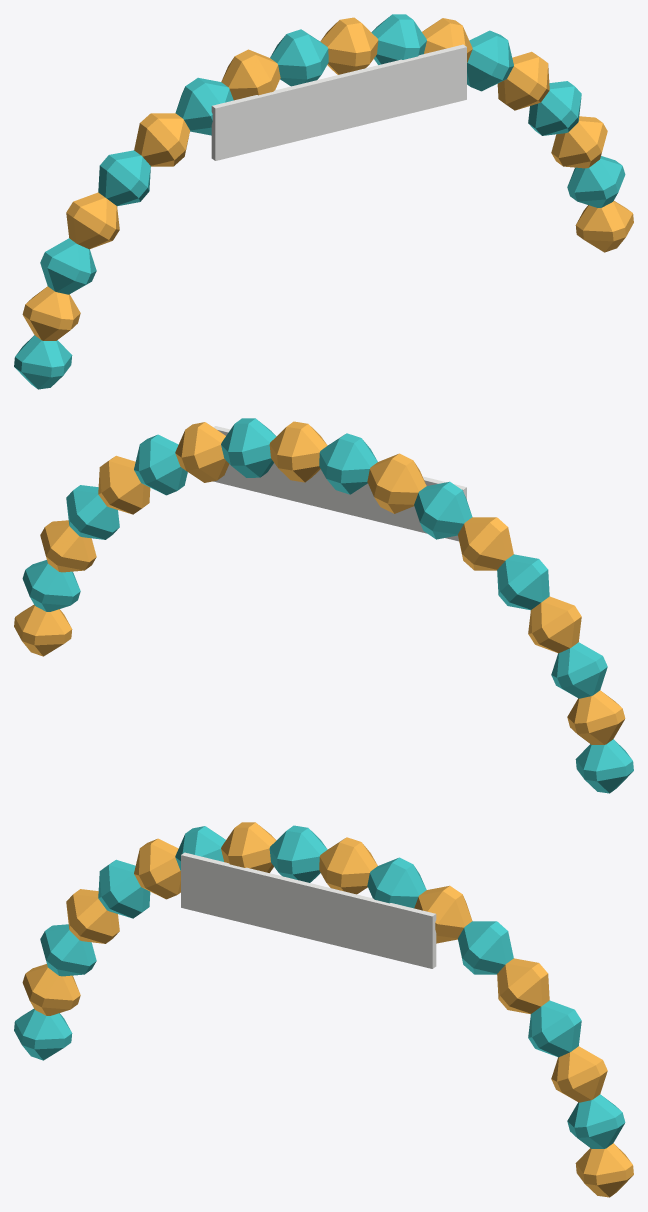
The model's file is festival_arch.glb.
3 views of the same model, one above another, from view 1: azimuth 30°, elevation 25°; view 2: azimuth 150°, elevation 25°; view 3: azimuth 330°, elevation 25° (orthographic).
Parts seen in each view (by area): view 1: festival_arch; view 2: festival_arch; view 3: festival_arch.
Part boxes in pixels (box(x1,y1,x2,y2)): festival_arch: box(14, 14, 633, 389); festival_arch: box(14, 418, 633, 793); festival_arch: box(14, 822, 633, 1197).
Bounding box in the file's own units: 19.48 × 8.82 × 1.75.
